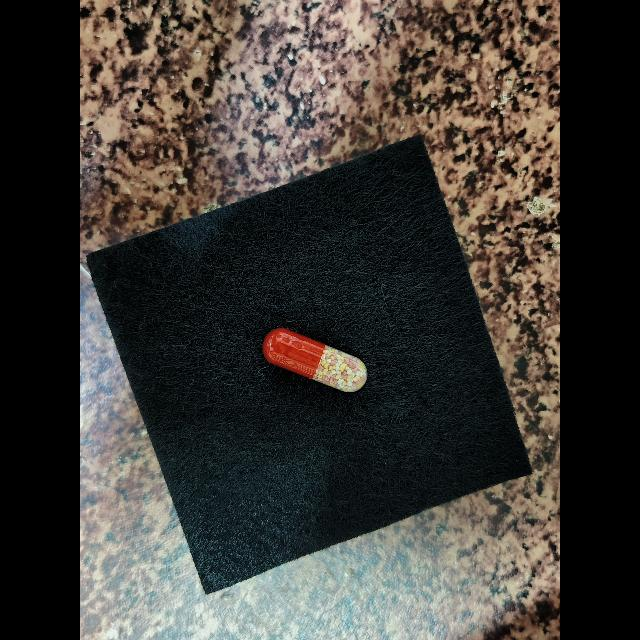Intact Capsule: (263, 328, 368, 392)
